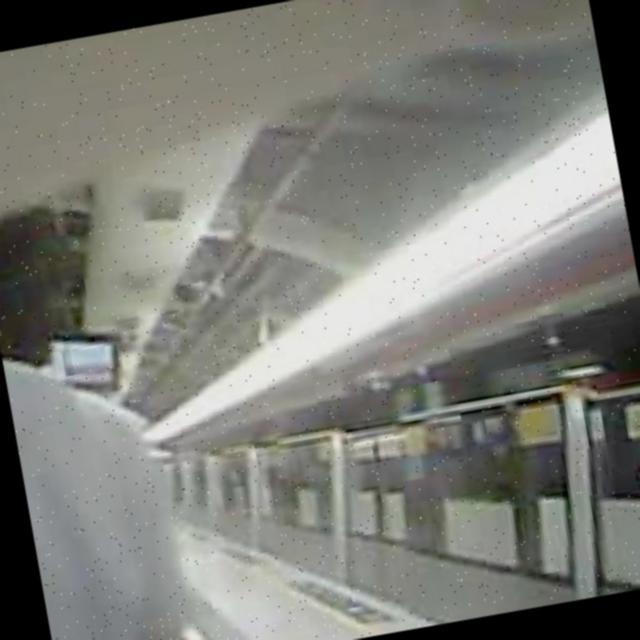person: (0, 213, 201, 640)
